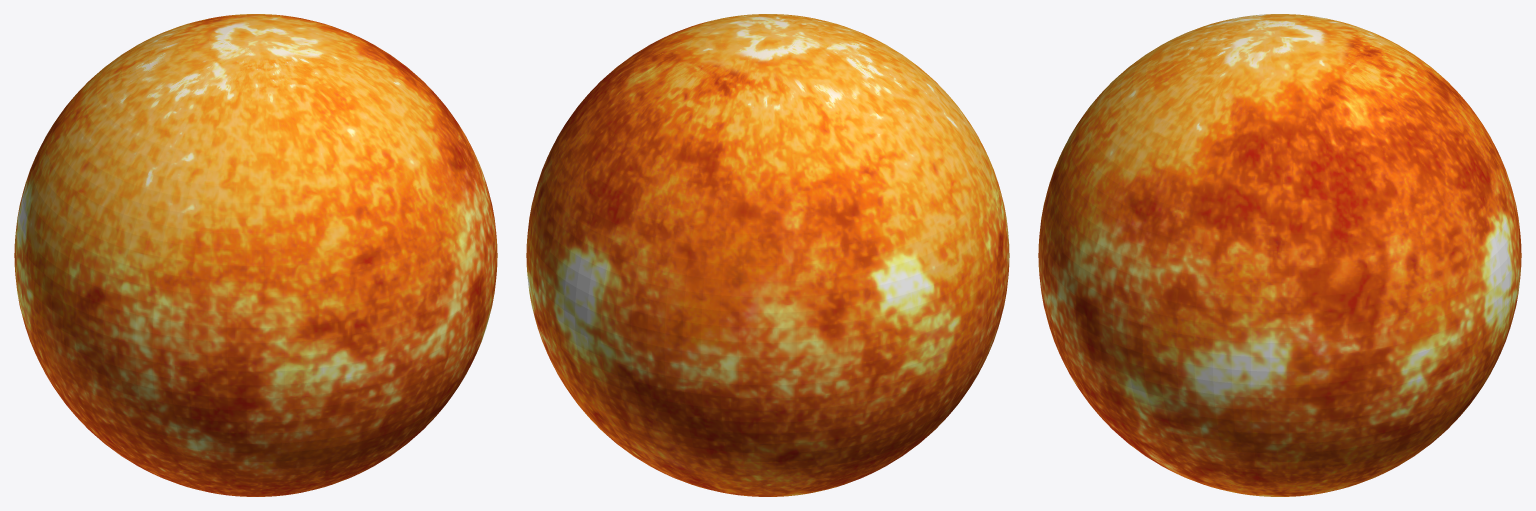
File: zon.glb
3 views of the same model, side by side, from view 1: azimuth 30°, elevation 25°; view 2: azimuth 150°, elevation 25°; view 3: azimuth 270°, elevation 25° (orthographic).
Visible parts, largest first — view 1: Sphere; view 2: Sphere; view 3: Sphere.
Part boxes in pixels (x1=…): Sphere: x1=14, y1=14, x2=497, y2=496; Sphere: x1=526, y1=14, x2=1009, y2=496; Sphere: x1=1038, y1=14, x2=1521, y2=496.
Size of the model in its own units: 2 by 2 by 2.
1 material, 1 textured.
